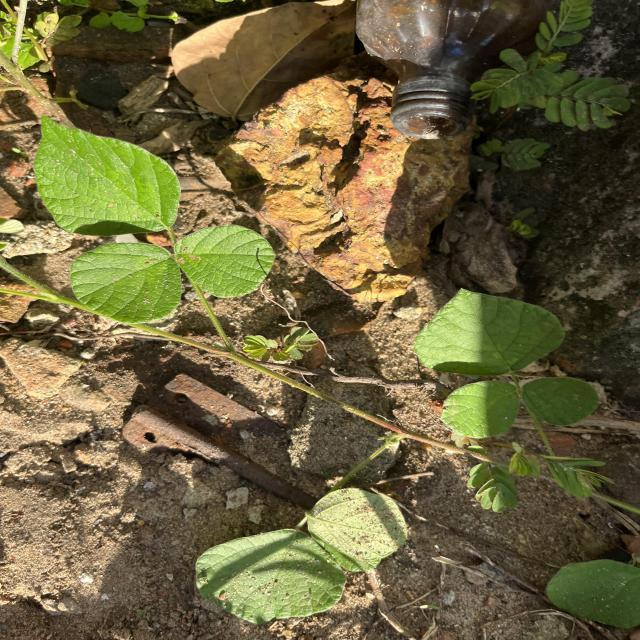Pseudarthria viscida: (30, 114, 278, 326), (412, 286, 602, 440)
